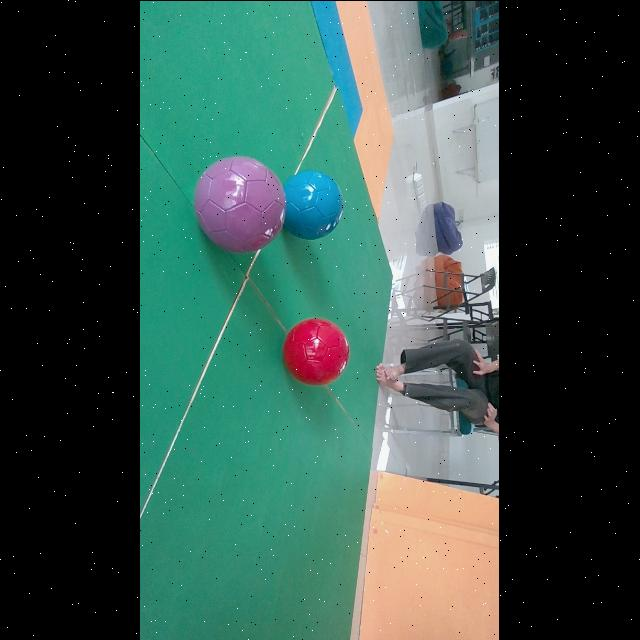B: (285, 169, 344, 238)
P: (194, 156, 286, 252)
R: (283, 317, 350, 384)
